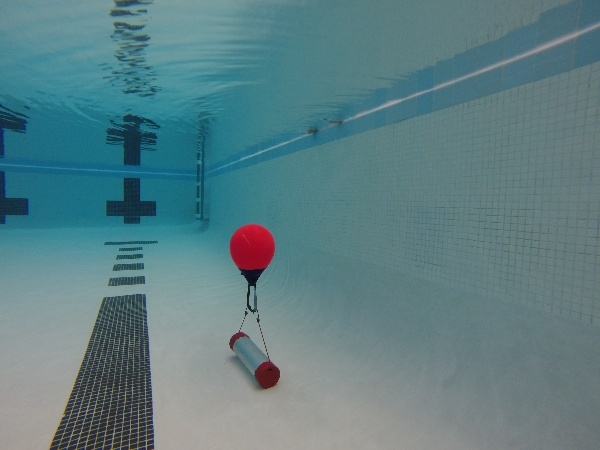buoy_red: (227, 223, 279, 288)
